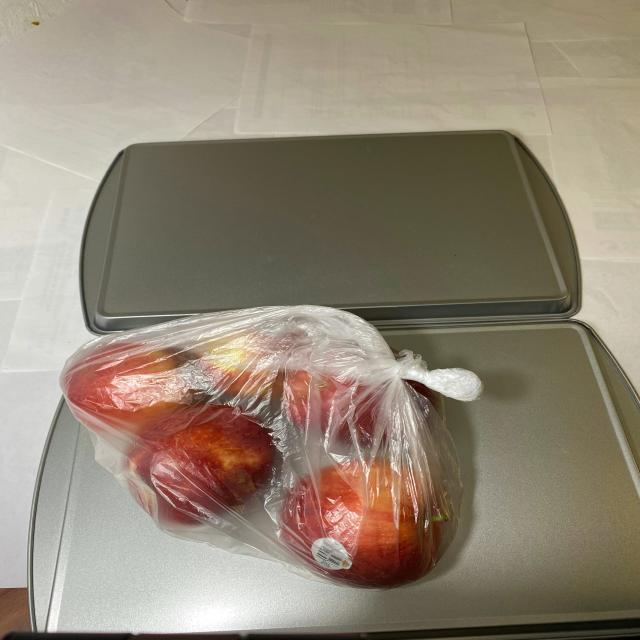apple: (62, 323, 461, 592)
